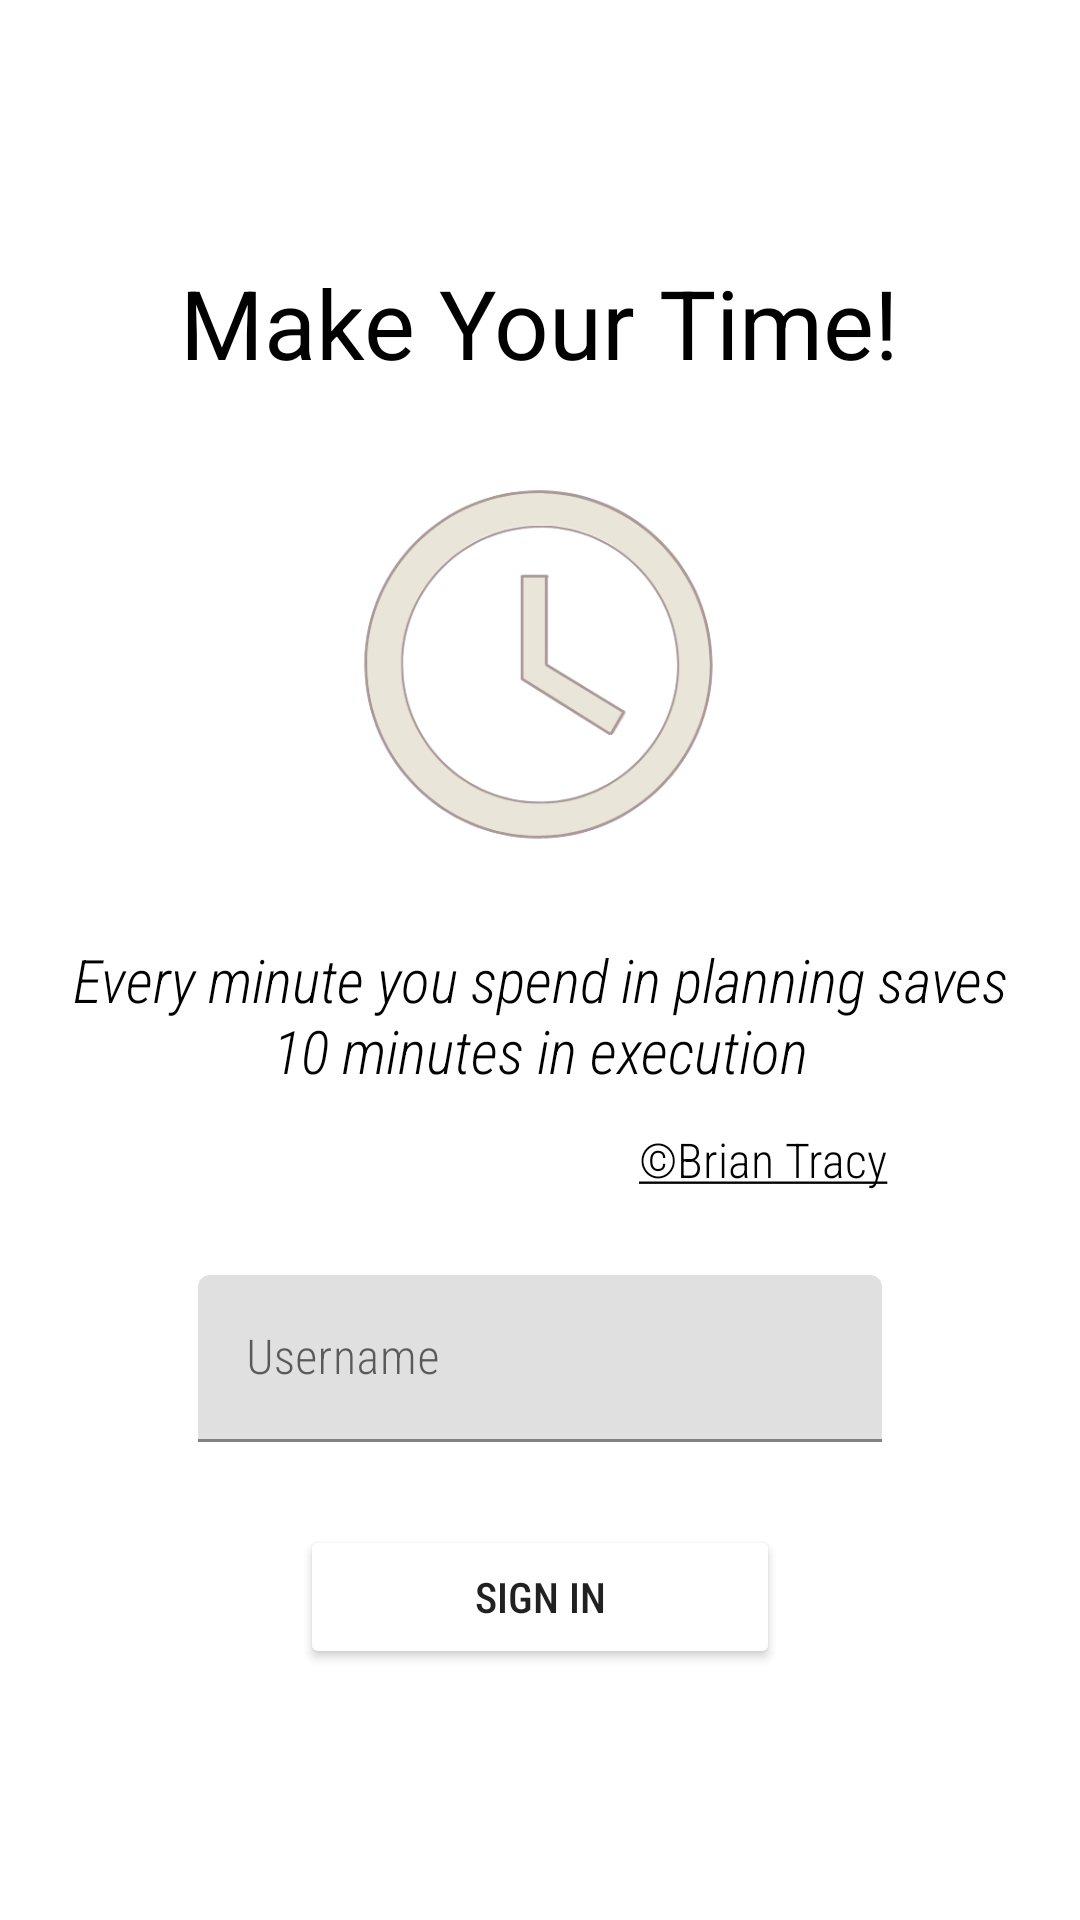

Named icons in this screenshot (1080*1920) and their bounding boxes, (x1, y1, x2, y2):
clock lt: (364, 490, 713, 839)
